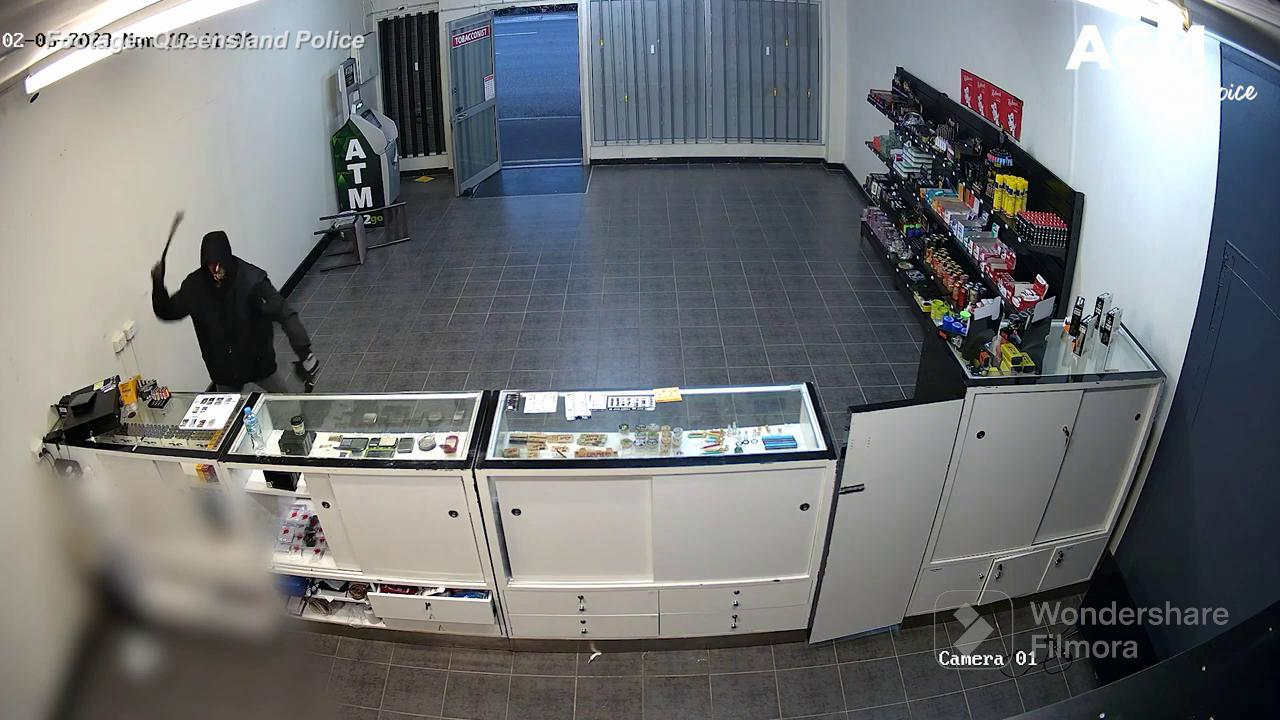melee: (156, 204, 190, 264)
